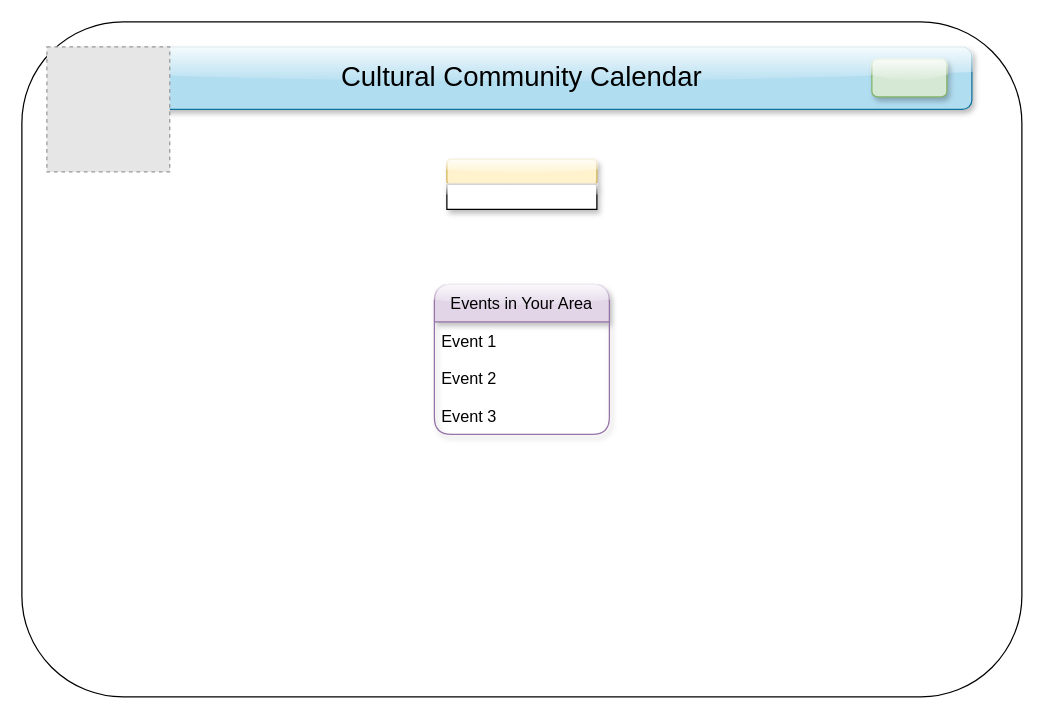
Some shapes in this 1044 by 719 pixel diagram are drawn without their labels. Grey dashed boxes stand in for pictures. The centre of each missing label's shape, as x and y in pixels:
Login: point 910,79
Your Zip Code: point 522,173
